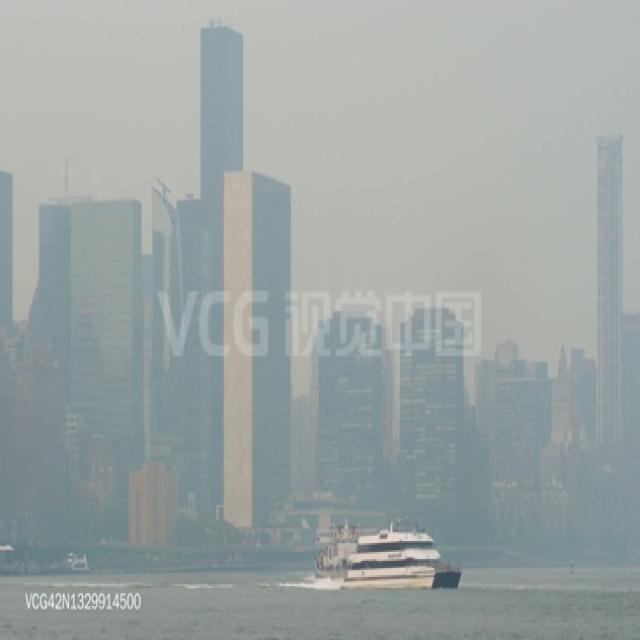houseboat: (60, 550, 90, 578)
passenger ship: (344, 522, 456, 588), (313, 513, 377, 578)
